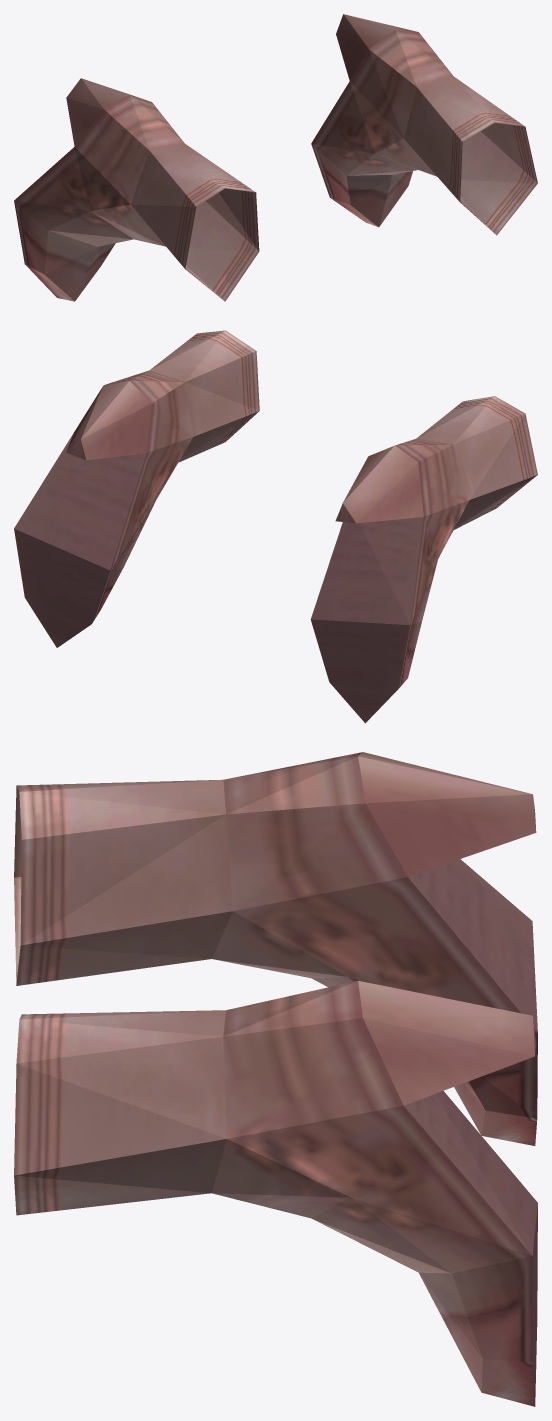
File: priest_shoe_female_49041.obj
3 views of the same model, one above another, from view 1: azimuth 30°, elevation 25°; view 2: azimuth 150°, elevation 25°; view 3: azimuth 270°, elevation 25° (orthographic). The views are drawn at different scales.
Visible parts, largest first — view 1: priest_shoe_female_49041; view 2: priest_shoe_female_49041; view 3: priest_shoe_female_49041.
Part boxes in pixels (x1,y1,x2,y2): priest_shoe_female_49041: (14,14,537,301); priest_shoe_female_49041: (14,330,537,723); priest_shoe_female_49041: (14,752,537,1406).
Size of the model in its own units: 21.4 by 12.16 by 14.15.
Materials: 1 (1 with a texture image).
